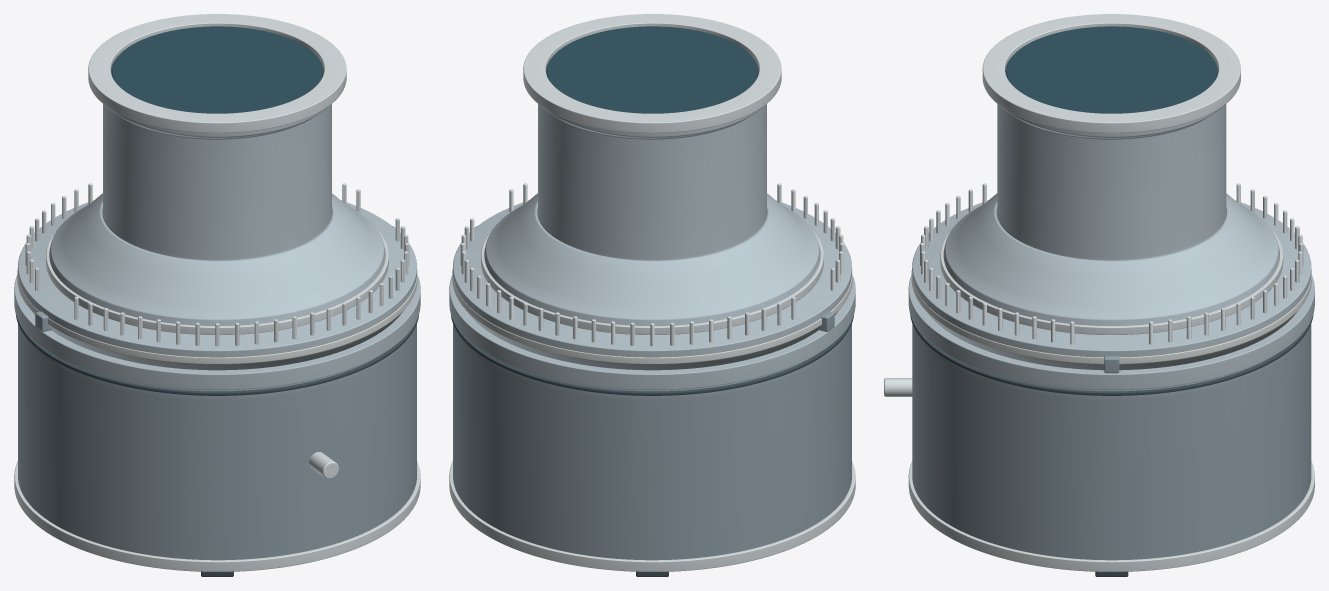
Rendered from IFTORA_About_C125M.glb.
3 renders of one model, left to right at view 1: azimuth 30°, elevation 25°; view 2: azimuth 150°, elevation 25°; view 3: azimuth 270°, elevation 25°, orthographic.
Visible parts, largest first — view 1: 05_Main_housing_surface, 03_Shoulder_surface, 02_Front_neck_and_rim_surface, 01_Front_window_surface, 04_Contact_interface_surface, 06_Rear_external_interface_surface; view 2: 05_Main_housing_surface, 03_Shoulder_surface, 02_Front_neck_and_rim_surface, 01_Front_window_surface, 04_Contact_interface_surface, 06_Rear_external_interface_surface; view 3: 05_Main_housing_surface, 03_Shoulder_surface, 02_Front_neck_and_rim_surface, 01_Front_window_surface, 04_Contact_interface_surface, 06_Rear_external_interface_surface.
Boxes of the visible parts, <box> form: 05_Main_housing_surface: <box>14,275,420,560</box>; 03_Shoulder_surface: <box>18,193,416,370</box>; 02_Front_neck_and_rim_surface: <box>88,14,346,260</box>; 01_Front_window_surface: <box>110,26,324,113</box>; 04_Contact_interface_surface: <box>17,183,417,364</box>; 06_Rear_external_interface_surface: <box>14,461,420,576</box>; 05_Main_housing_surface: <box>449,275,855,560</box>; 03_Shoulder_surface: <box>453,193,851,370</box>; 02_Front_neck_and_rim_surface: <box>523,14,781,260</box>; 01_Front_window_surface: <box>545,26,759,113</box>; 04_Contact_interface_surface: <box>452,183,852,364</box>; 06_Rear_external_interface_surface: <box>449,461,855,576</box>; 05_Main_housing_surface: <box>884,275,1314,560</box>; 03_Shoulder_surface: <box>912,193,1311,370</box>; 02_Front_neck_and_rim_surface: <box>982,14,1240,260</box>; 01_Front_window_surface: <box>1005,26,1218,113</box>; 04_Contact_interface_surface: <box>911,183,1311,373</box>; 06_Rear_external_interface_surface: <box>908,461,1314,576</box>.
Size of the model in its own units: 3.52 by 4.09 by 3.67.
